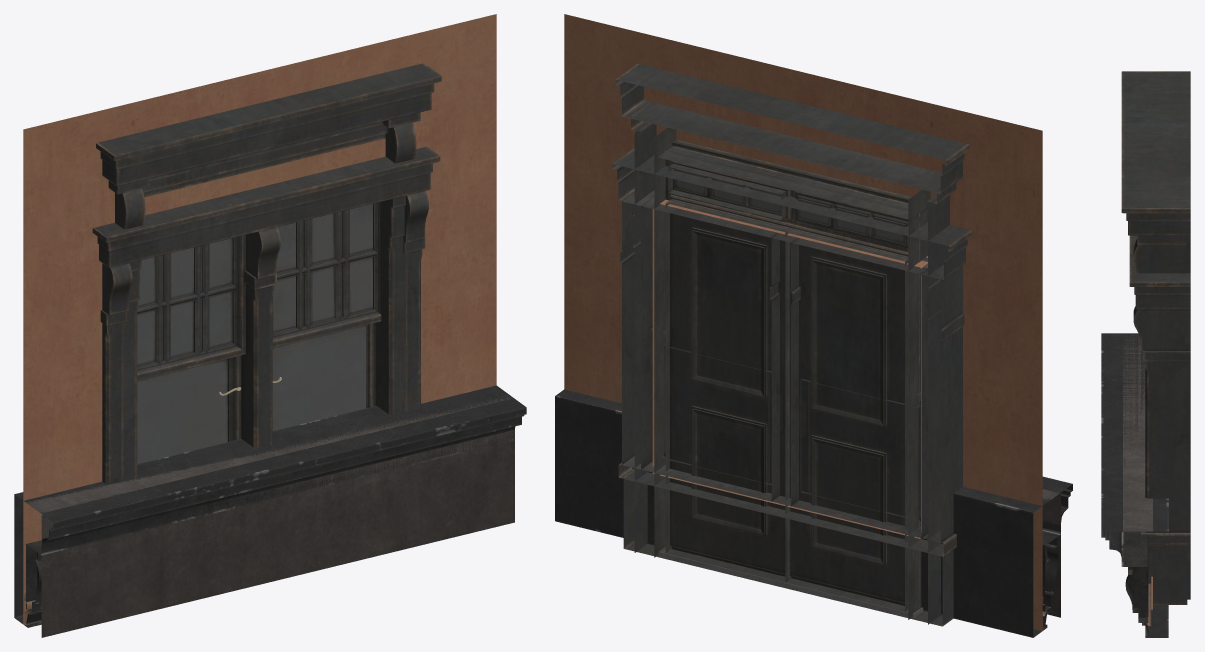
File: architecture.glb
3 views of the same model, side by side, from view 1: azimuth 30°, elevation 25°; view 2: azimuth 150°, elevation 25°; view 3: azimuth 270°, elevation 25° (orthographic). The views are drawn at different scales.
Visible parts, largest first — view 1: wall_door_centered_large_01, window_centered_large_02, base_standard_01, door_centered_large_01, crown_standard_standard_01, window_centered_large_03, wall_window_centered_large_01, wall_window_centered_large_02, wall_window_centered_large_03; view 2: door_centered_large_01, wall_window_centered_large_01, window_centered_large_02, wall_window_centered_large_03, crown_standard_standard_01, wall_window_centered_large_02, wall_door_centered_large_01, window_centered_large_01, base_standard_01; view 3: door_centered_large_01, window_centered_large_02, crown_standard_standard_01, base_standard_01, window_centered_large_01, cornice_standard_standard_01.
Part boxes in pixels (<box>): wall_door_centered_large_01: <box>23,14,496,624</box>; window_centered_large_02: <box>92,146,440,484</box>; base_standard_01: <box>26,396,514,637</box>; door_centered_large_01: <box>96,63,441,480</box>; crown_standard_standard_01: <box>14,385,526,627</box>; window_centered_large_03: <box>137,202,381,461</box>; wall_window_centered_large_01: <box>23,14,496,578</box>; wall_window_centered_large_02: <box>23,37,496,535</box>; wall_window_centered_large_03: <box>23,39,496,560</box>; door_centered_large_01: <box>615,63,969,624</box>; wall_window_centered_large_01: <box>564,14,1042,630</box>; window_centered_large_02: <box>612,148,972,556</box>; wall_window_centered_large_03: <box>564,14,1042,624</box>; crown_standard_standard_01: <box>555,389,1072,637</box>; wall_window_centered_large_02: <box>564,34,1042,630</box>; wall_door_centered_large_01: <box>564,58,1042,630</box>; window_centered_large_01: <box>623,469,953,626</box>; base_standard_01: <box>1042,489,1060,617</box>; door_centered_large_01: <box>1121,71,1190,599</box>; window_centered_large_02: <box>1129,235,1190,544</box>; crown_standard_standard_01: <box>1101,333,1168,637</box>; base_standard_01: <box>1121,333,1152,532</box>; window_centered_large_01: <box>1148,545,1187,604</box>; cornice_standard_standard_01: <box>1146,576,1152,626</box>.
Bounding box in the file's own units: 3 × 3 × 0.57.
Materials: 5 (5 with a texture image).
